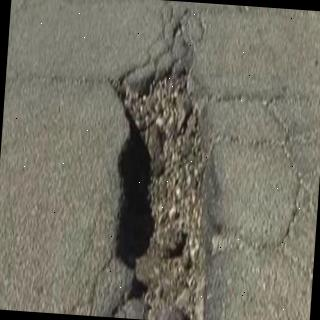pothole: (112, 63, 253, 320)
